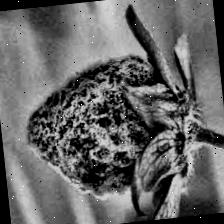Gray Mold: (17, 48, 210, 224)
